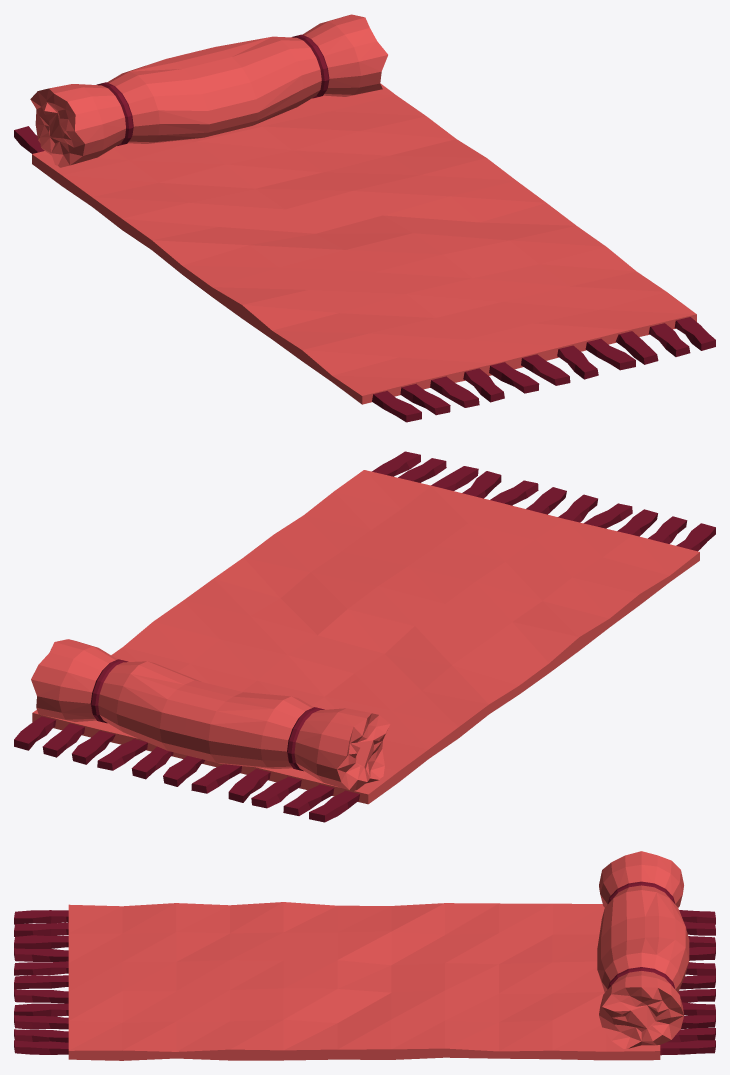
File: Camping.fbx
3 renders of one model, top to bottom at view 1: azimuth 30°, elevation 25°; view 2: azimuth 150°, elevation 25°; view 3: azimuth 270°, elevation 25°, orthographic. The views are drawn at different scales.
Visible parts, largest first — view 1: Cube, Cylinder; view 2: Cube, Cylinder; view 3: Cube, Cylinder.
Part boxes in pixels (left/top/right/bottom): Cube: left=14, top=83, right=715, bottom=422; Cylinder: left=30, top=14, right=387, bottom=167; Cube: left=14, top=451, right=715, bottom=822; Cylinder: left=31, top=639, right=390, bottom=791; Cube: left=14, top=902, right=715, bottom=1060; Cylinder: left=597, top=851, right=689, bottom=1048.
Size of the model in its own units: 363 by 79.77 by 736.
